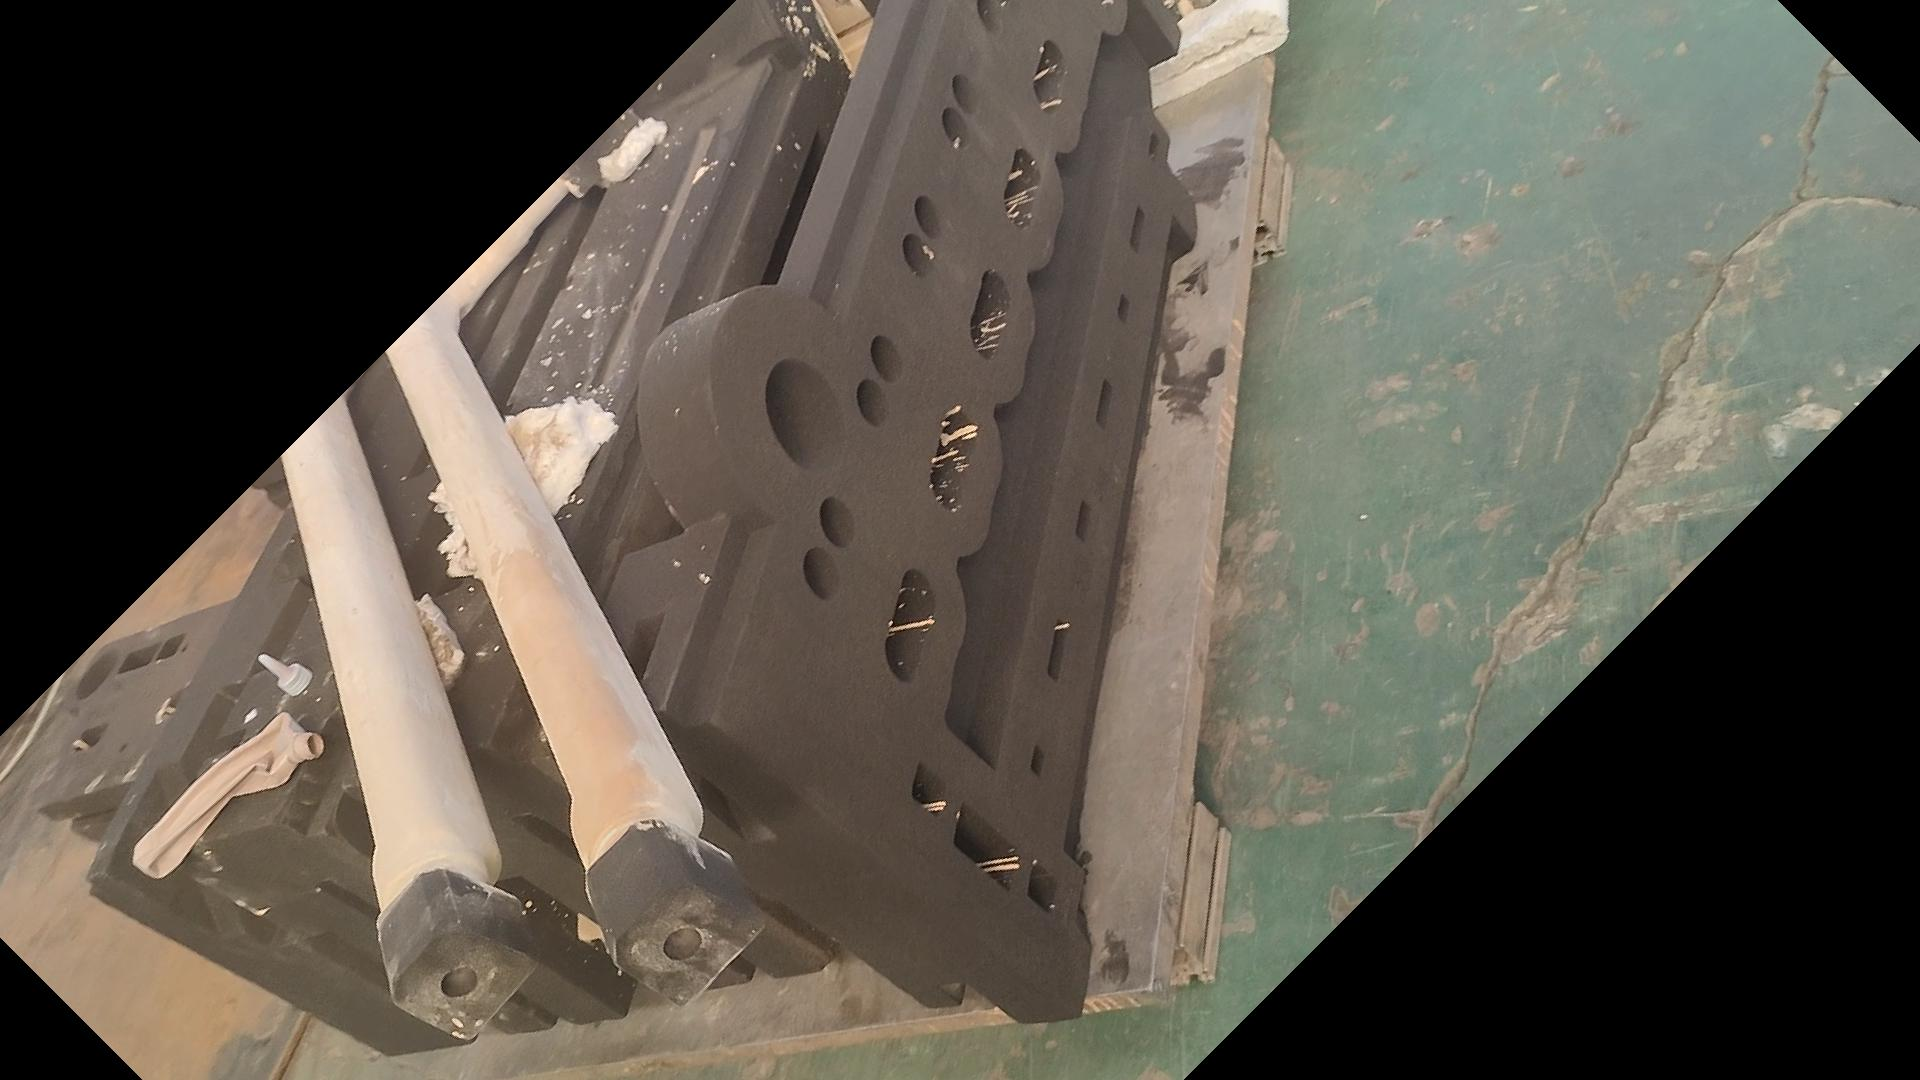pouring hole: (764, 357, 848, 469), (74, 649, 117, 700)
